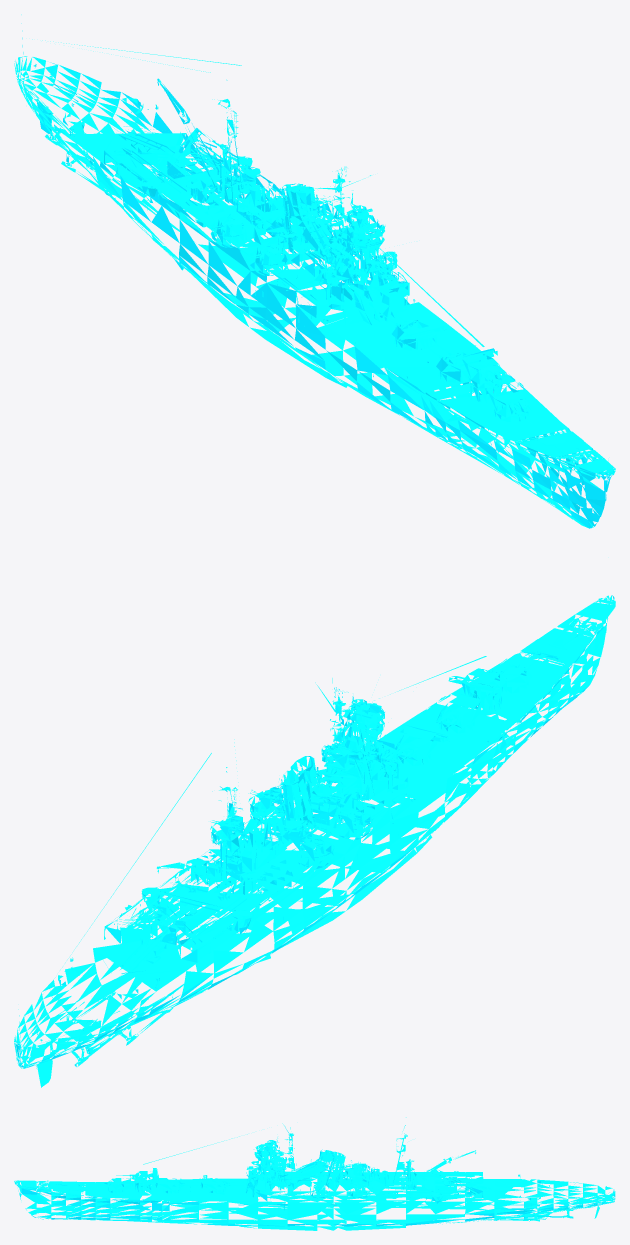
Rendered from PJSC018.glb.
The picture shows the model from 3 angles, top to bottom: view 1: azimuth 30°, elevation 25°; view 2: azimuth 150°, elevation 25°; view 3: azimuth 270°, elevation 25°; orthographic projection. The views are drawn at different scales.
Parts seen in each view (by area): view 1: hull_mid, hull_bow, hull_stern, main_battery, superstructure, hull_body; view 2: hull_mid, hull_bow, main_battery, hull_stern, hull_body, superstructure; view 3: hull_mid, hull_bow, hull_stern, main_battery, torpedo, hull_body, superstructure.
Boxes of the visible parts, x1,y1,x2,y2 form: hull_mid: (43, 78, 506, 442); hull_bow: (323, 195, 615, 528); hull_stern: (14, 14, 241, 164); main_battery: (380, 310, 542, 423); superstructure: (233, 113, 397, 278); hull_body: (216, 198, 350, 268); hull_mid: (42, 678, 506, 1054); hull_bow: (390, 595, 615, 778); main_battery: (392, 654, 542, 761); hull_stern: (14, 753, 211, 1087); hull_body: (219, 787, 365, 861); superstructure: (233, 687, 397, 812); hull_mid: (162, 1117, 553, 1230); hull_bow: (14, 1134, 247, 1222); hull_stern: (533, 1180, 615, 1218); main_battery: (90, 1168, 243, 1190); torpedo: (382, 1177, 469, 1198); hull_body: (313, 1163, 365, 1194); superstructure: (264, 1127, 398, 1180).
Size of the model in its own units: 1.65 by 2.53 by 13.45.
